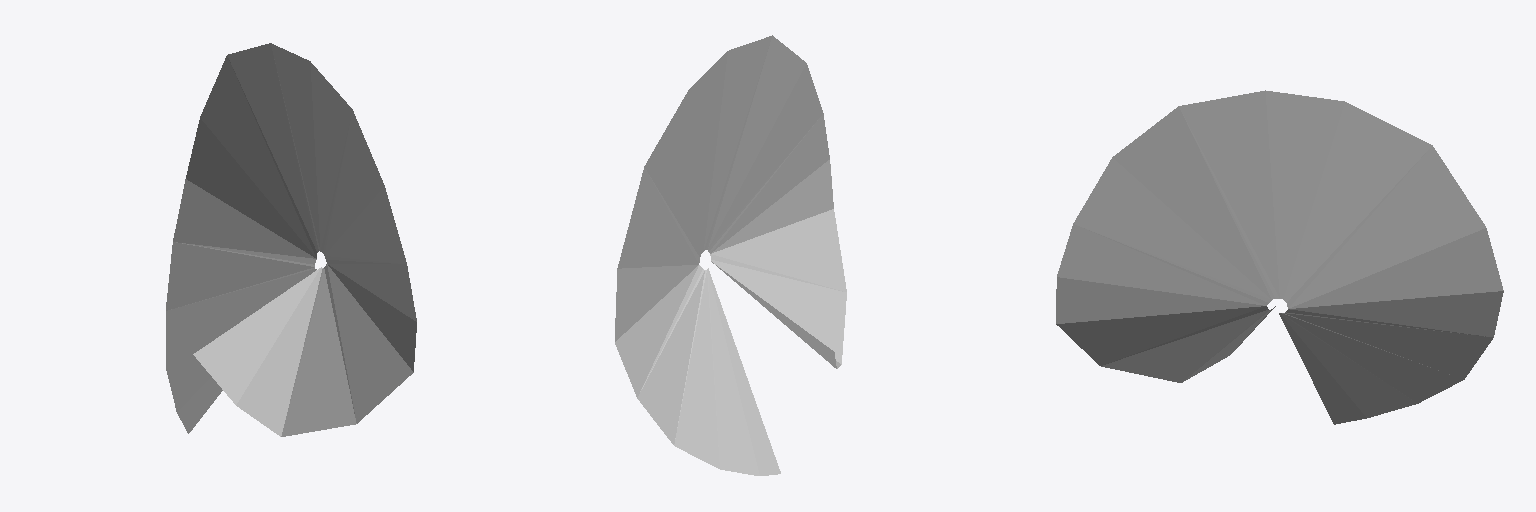
File: eff_enem_MA_e063_Wind_SwordAttackAirN_M.obj
3 views of the same model, side by side, from view 1: azimuth 30°, elevation 25°; view 2: azimuth 150°, elevation 25°; view 3: azimuth 270°, elevation 25° (orthographic).
Parts seen in each view (by area): view 1: polygon0; view 2: polygon0; view 3: polygon0.
Boxes of the visible parts, x1,y1,x2,y2 form: polygon0: [166, 43, 416, 436]; polygon0: [615, 35, 846, 475]; polygon0: [1056, 90, 1503, 424].
Size of the model in its own units: 21.79 by 60.61 by 65.22.